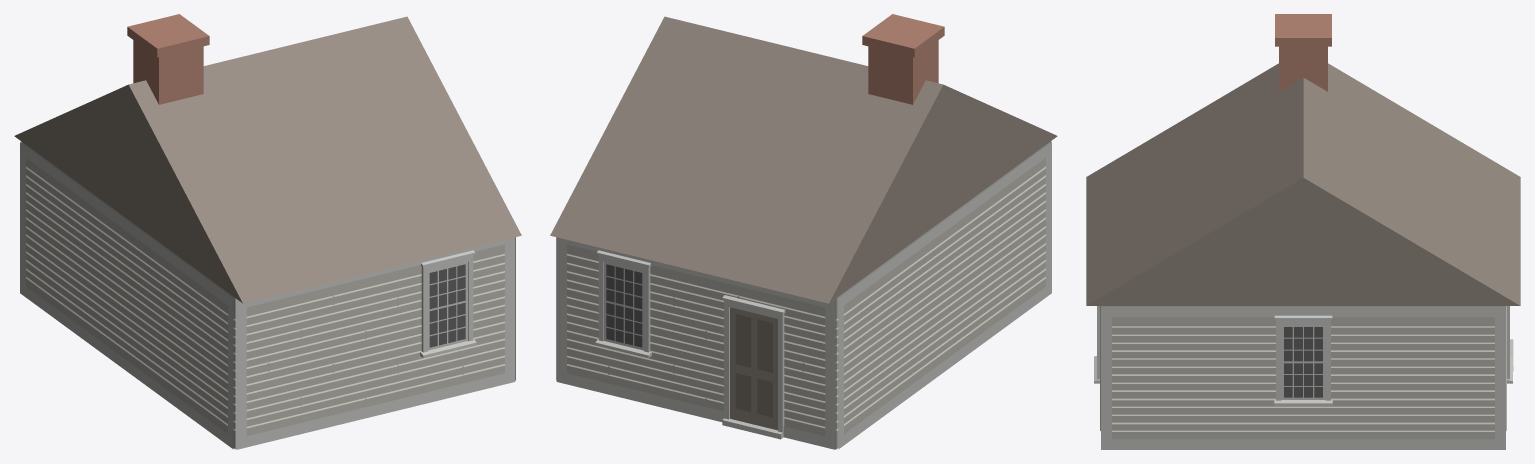
File: recon_1835_south_d3_022__inferred_1835.glb
3 renders of one model, left to right at view 1: azimuth 30°, elevation 25°; view 2: azimuth 150°, elevation 25°; view 3: azimuth 270°, elevation 25°, orthographic. The views are drawn at different scales.
Visible parts, largest first — view 1: recon_1835_south_d3_022__inferred_1835; view 2: recon_1835_south_d3_022__inferred_1835; view 3: recon_1835_south_d3_022__inferred_1835.
Part boxes in pixels (x1,y1,x2,y2): recon_1835_south_d3_022__inferred_1835: (14, 14, 521, 449); recon_1835_south_d3_022__inferred_1835: (550, 14, 1057, 449); recon_1835_south_d3_022__inferred_1835: (1086, 14, 1520, 449).
Bounding box in the file's own units: 5.4 × 5.93 × 7.46.
